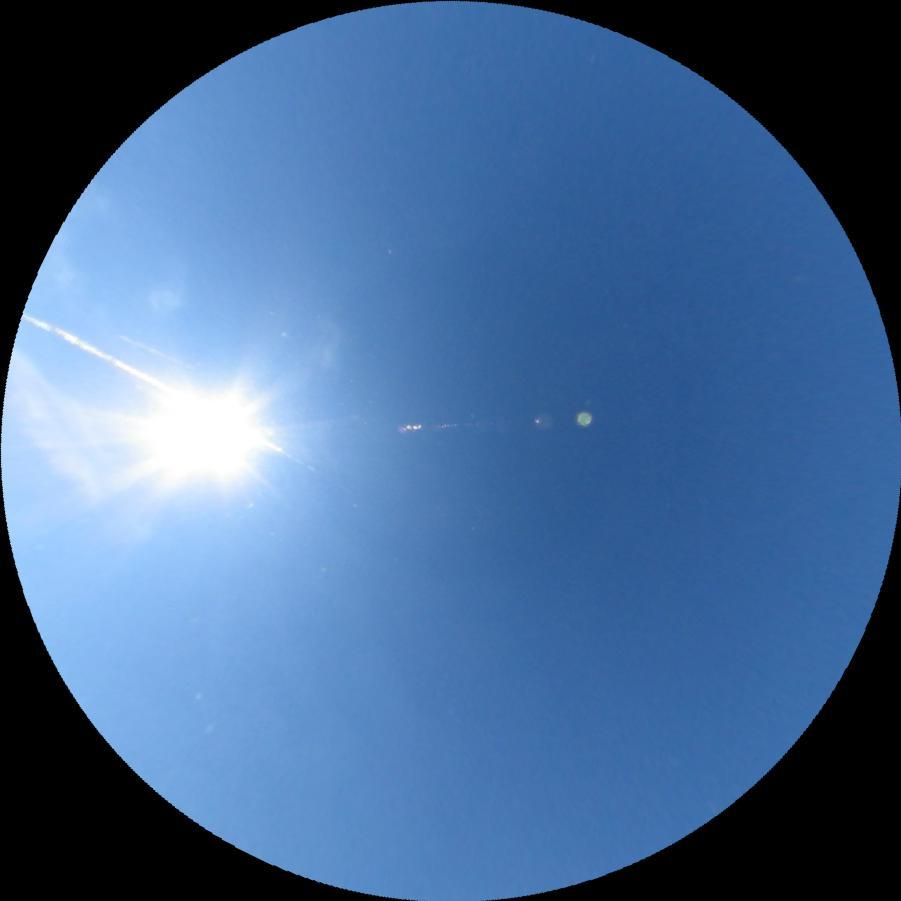parasite: (20, 310, 320, 473), (117, 333, 194, 369)
sun: (136, 383, 279, 482)
